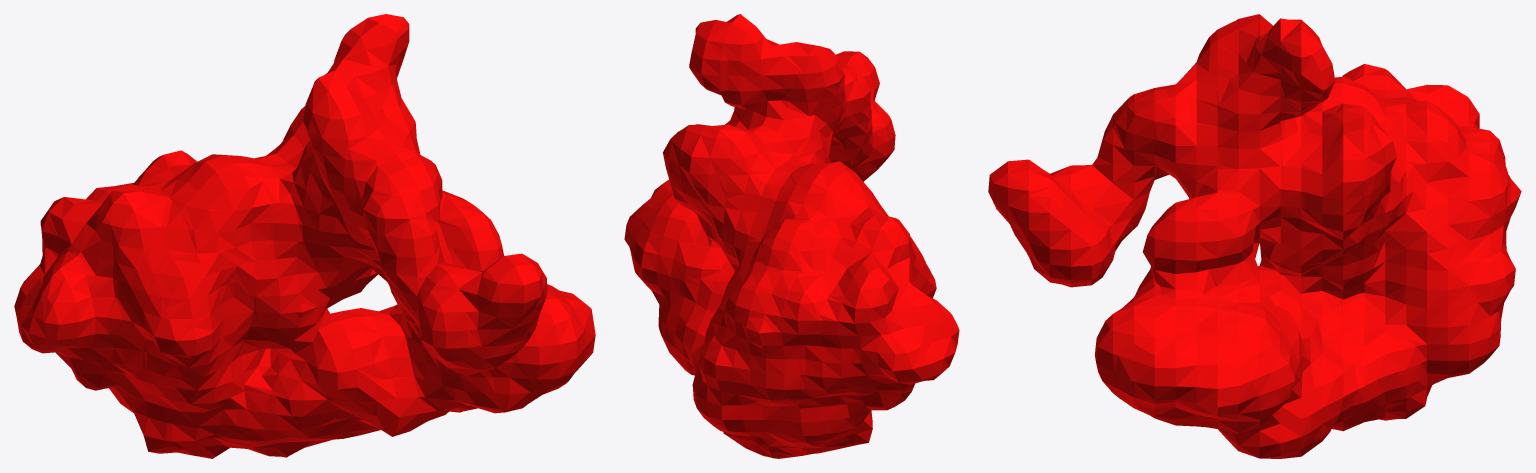
The model's file is cstA_coarse.dae.
The picture shows the model from 3 angles, left to right: view 1: azimuth 30°, elevation 25°; view 2: azimuth 150°, elevation 25°; view 3: azimuth 270°, elevation 25°; orthographic projection. The views are drawn at different scales.
Parts seen in each view (by area): view 1: cstA; view 2: cstA; view 3: cstA.
Boxes of the visible parts, box(x1,y1,x2,y2) form: cstA: box(14, 14, 595, 458); cstA: box(624, 14, 959, 458); cstA: box(988, 14, 1521, 458).
Size of the model in its own units: 97.04 by 88.61 by 97.73.
